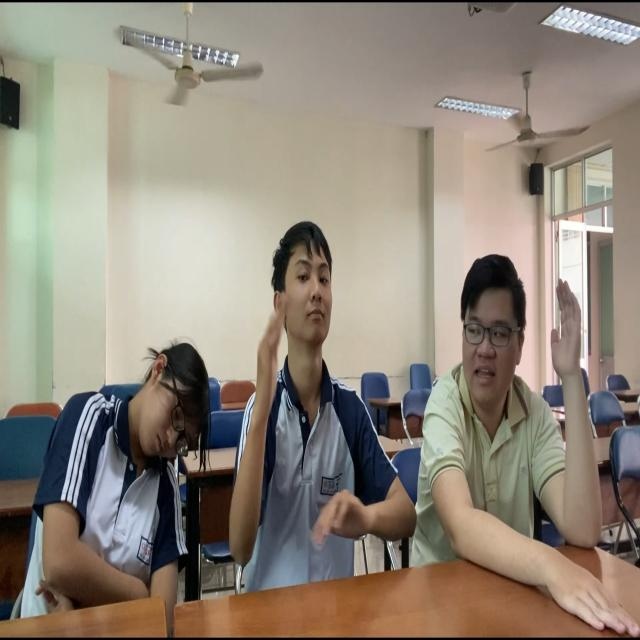raise_hand: (415, 241, 637, 628)
